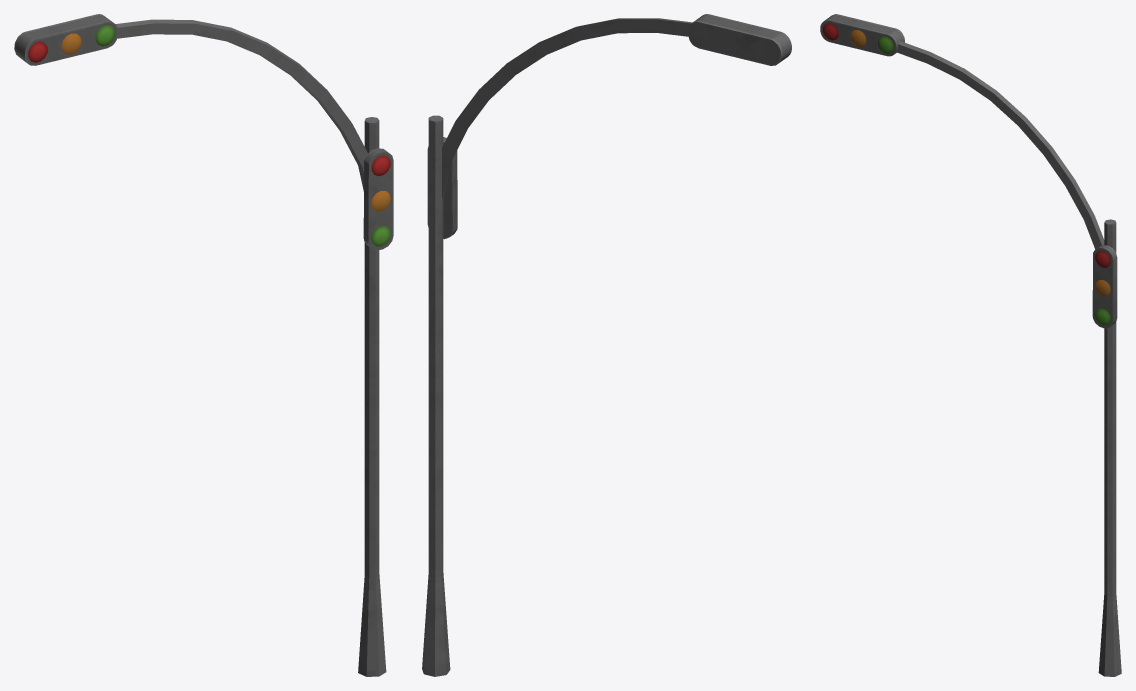
Rendered from traffic signal.fbx.
3 renders of one model, left to right at view 1: azimuth 30°, elevation 25°; view 2: azimuth 150°, elevation 25°; view 3: azimuth 330°, elevation 25°, orthographic. The views are drawn at different scales.
Visible parts, largest first — view 1: model_0.001; view 2: model_0.001; view 3: model_0.001.
Boxes of the visible parts, box(x1,y1,x2,y2) form: model_0.001: box(14, 14, 393, 676); model_0.001: box(422, 14, 791, 676); model_0.001: box(820, 14, 1121, 676).
Size of the model in its own units: 281 by 530 by 21.35.
1 material, 1 textured.
